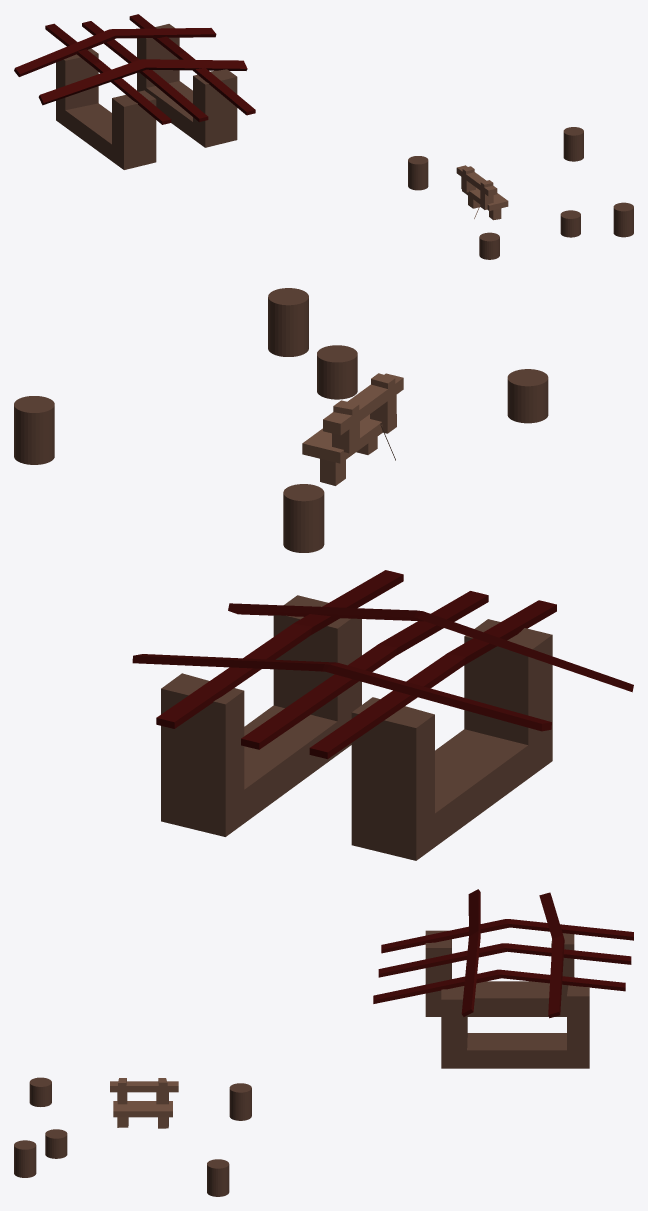
Rendered from Bench-LHS_CCIT_FIN.glb.
3 renders of one model, top to bottom at view 1: azimuth 30°, elevation 25°; view 2: azimuth 150°, elevation 25°; view 3: azimuth 270°, elevation 25°, orthographic. The views are drawn at different scales.
Parts seen in each view (by area): view 1: Cylinder, Cylinder.004, Cube.004, Cube.005, Cube, Cube.001, Cube.003, Cube.002, Cylinder.001, Cylinder.002, Cylinder.003; view 2: Cylinder, Cylinder.004, Cube, Cube.001, Cube.003, Cube.002, Cube.005, Cube.004, Cylinder.003, Cylinder.001, Cylinder.002; view 3: Cylinder.004, Cylinder, Cube, Cube.003, Cube.002, Cube.001, Cube.005, Cube.004, Cylinder.003, Cylinder.001, Cylinder.002.
Boxes of the visible parts, bbox=[...] form: Cylinder: bbox=[56, 48, 499, 259]; Cylinder.004: bbox=[137, 24, 580, 237]; Cube.004: bbox=[38, 59, 247, 105]; Cube.005: bbox=[14, 28, 216, 76]; Cube: bbox=[456, 165, 508, 220]; Cube.001: bbox=[45, 23, 171, 124]; Cube.003: bbox=[82, 21, 208, 121]; Cube.002: bbox=[129, 14, 255, 115]; Cylinder.001: bbox=[613, 202, 633, 237]; Cylinder.002: bbox=[563, 127, 583, 161]; Cylinder.003: bbox=[408, 156, 428, 190]; Cylinder: bbox=[351, 369, 552, 860]; Cylinder.004: bbox=[161, 345, 361, 836]; Cube: bbox=[302, 373, 403, 485]; Cube.001: bbox=[309, 600, 556, 759]; Cube.003: bbox=[241, 591, 488, 749]; Cube.002: bbox=[156, 570, 403, 728]; Cube.005: bbox=[132, 654, 551, 731]; Cube.004: bbox=[228, 603, 633, 692]; Cylinder.003: bbox=[283, 484, 324, 552]; Cylinder.001: bbox=[268, 288, 308, 356]; Cylinder.002: bbox=[14, 396, 54, 464]; Cylinder.004: bbox=[45, 985, 589, 1158]; Cylinder: bbox=[29, 930, 574, 1106]; Cube: bbox=[110, 1078, 178, 1128]; Cube.003: bbox=[378, 943, 631, 977]; Cube.002: bbox=[373, 969, 625, 1003]; Cube.001: bbox=[381, 919, 633, 953]; Cube.005: bbox=[539, 892, 564, 1018]; Cube.004: bbox=[461, 889, 480, 1016]; Cylinder.003: bbox=[229, 1083, 251, 1120]; Cylinder.001: bbox=[14, 1140, 36, 1177]; Cylinder.002: bbox=[207, 1159, 229, 1196].
Bounding box in the file's own units: 23.93 × 4.83 × 27.82.
